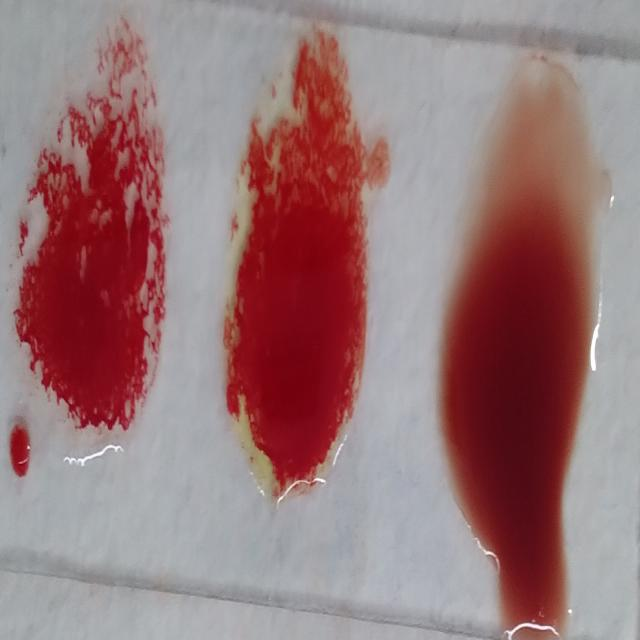B: (223, 37, 371, 515)
D: (20, 28, 170, 472)
